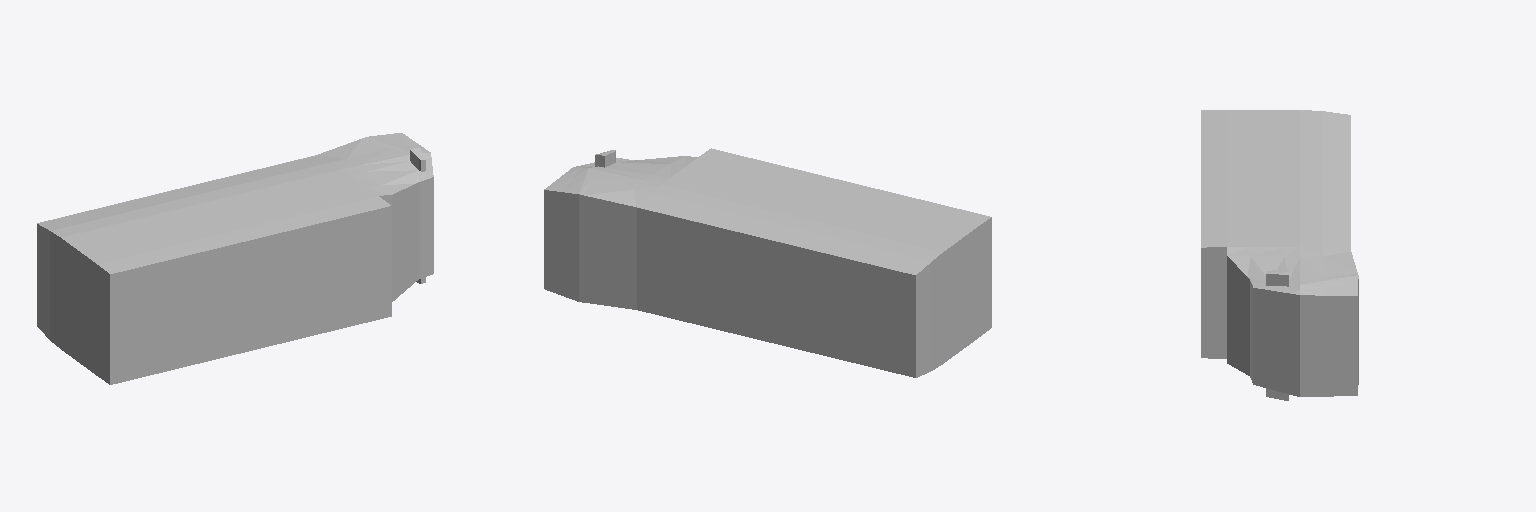
File: truck_chassis_col.obj
3 views of the same model, side by side, from view 1: azimuth 30°, elevation 25°; view 2: azimuth 150°, elevation 25°; view 3: azimuth 270°, elevation 25° (orthographic).
Parts seen in each view (by area): view 1: Truck_Collision_0502; view 2: Truck_Collision_0502; view 3: Truck_Collision_0502.
Boxes of the visible parts, box(x1,y1,x2,y2) form: Truck_Collision_0502: box(37, 133, 433, 384); Truck_Collision_0502: box(544, 148, 991, 377); Truck_Collision_0502: box(1201, 110, 1358, 400).
Size of the model in its own units: 11.52 by 3.85 by 4.24.